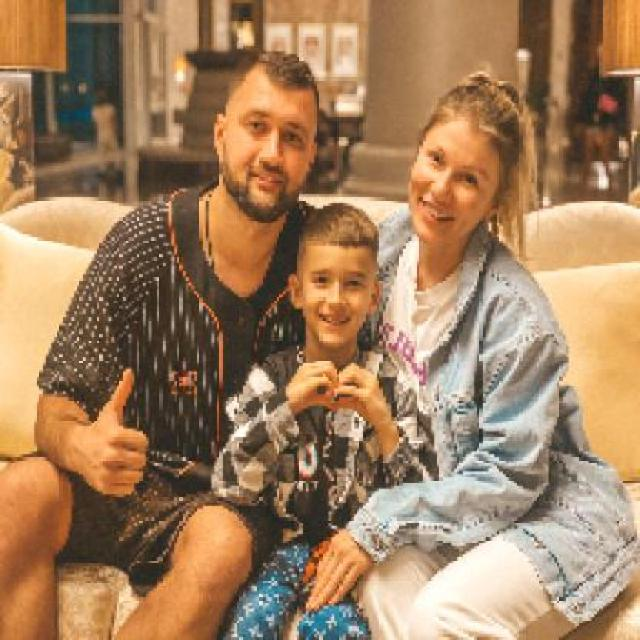child: (208, 202, 423, 638)
